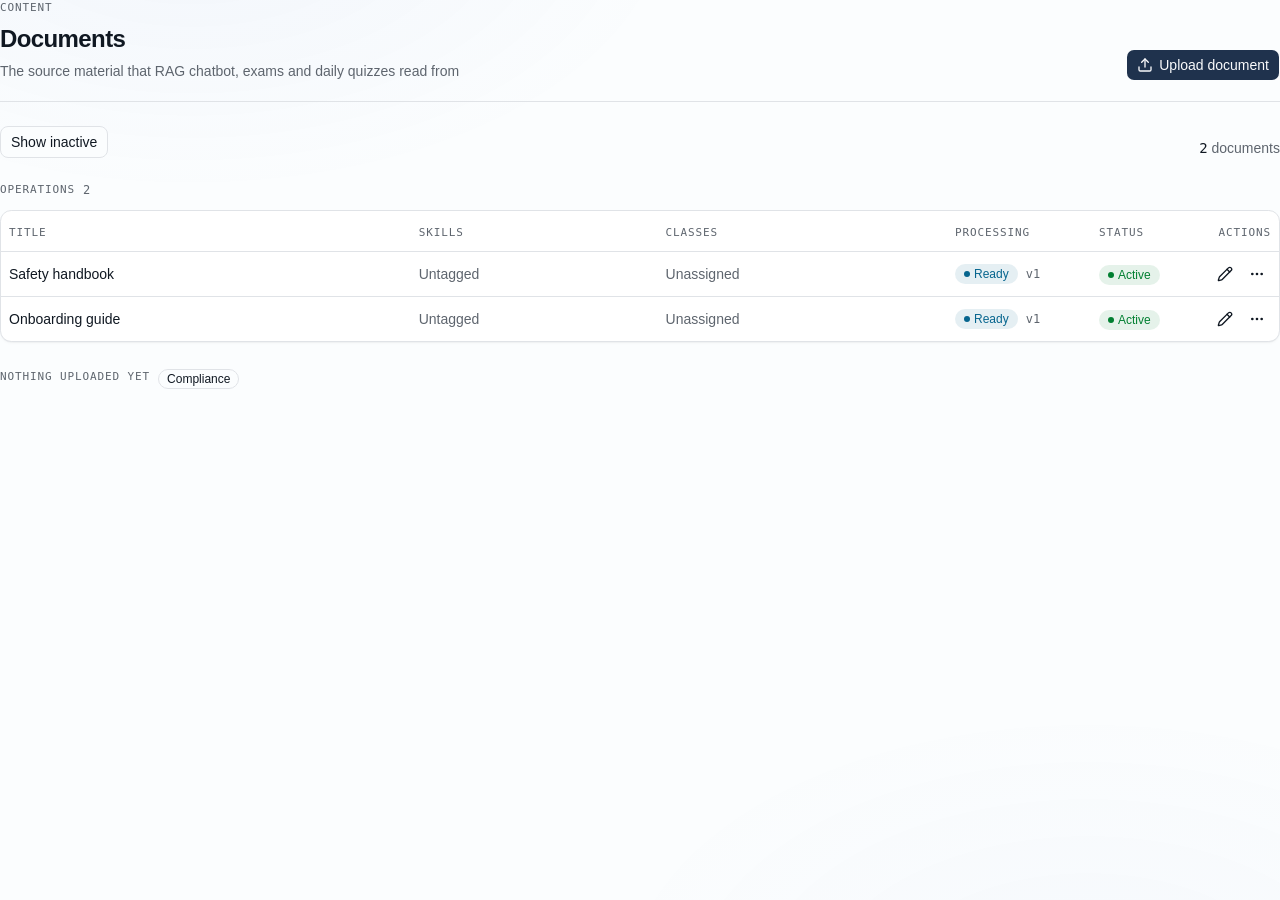
it: DocumentsPage edit and delete › keeps the document and shows the server's reason when a delete is blocked
Expected: the link "Safety handbook" is shown, [9, 266, 114, 282]
Click the button named "Actions for": (1257, 274) [1243, 260, 1271, 288]
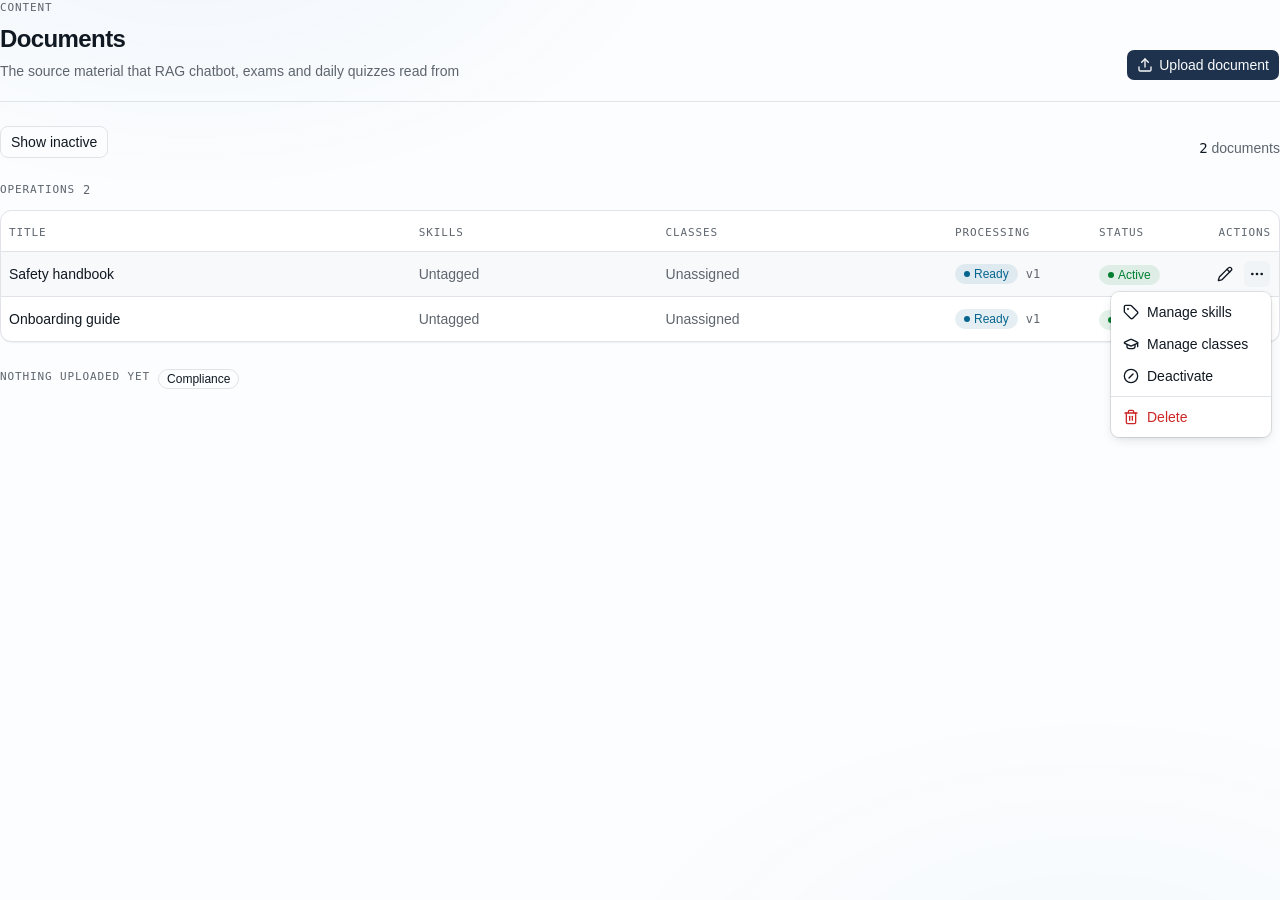
Click the menu item "Delete": (1155, 417) [1123, 409, 1188, 425]
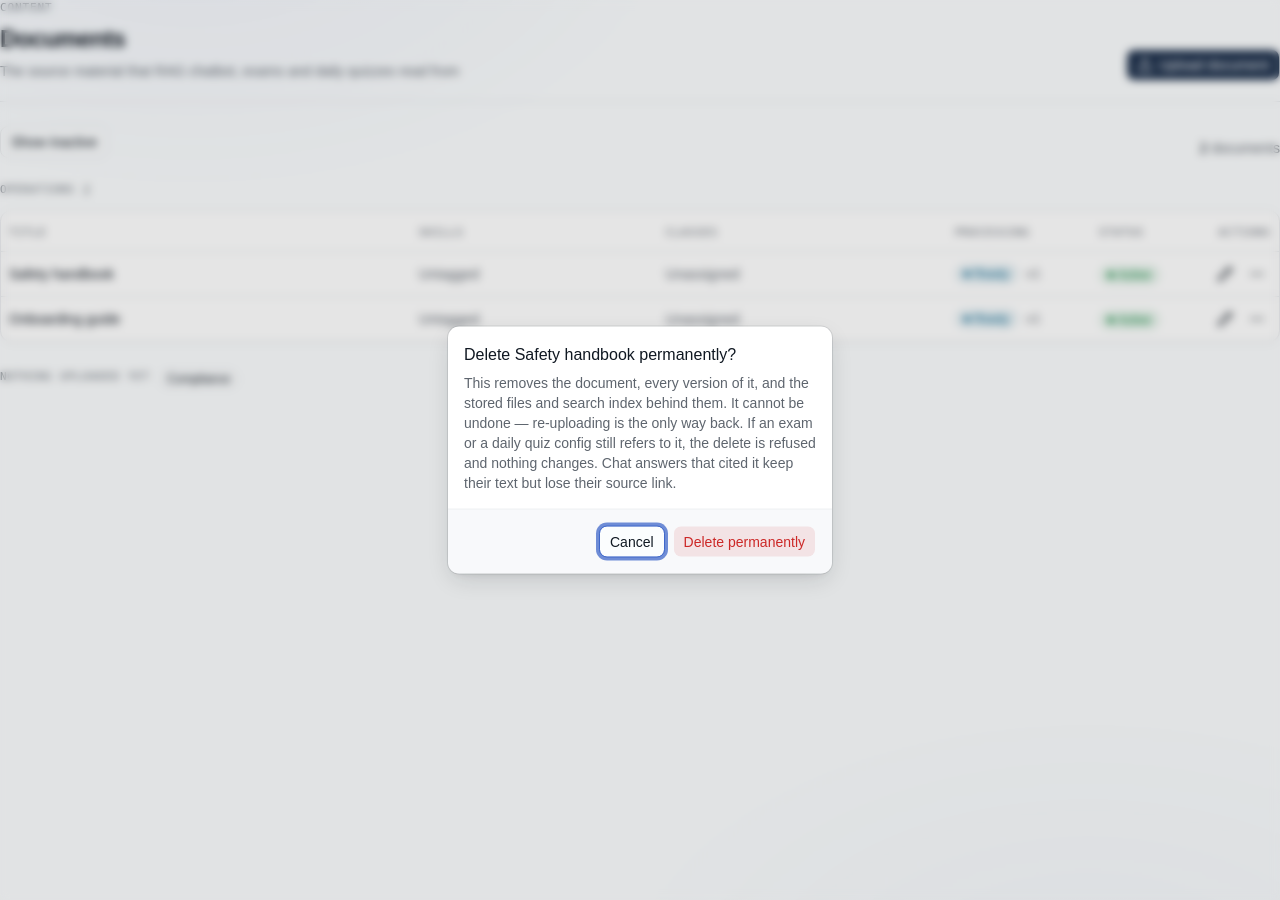
Click the button "Delete permanently": (744, 542) [673, 526, 816, 558]
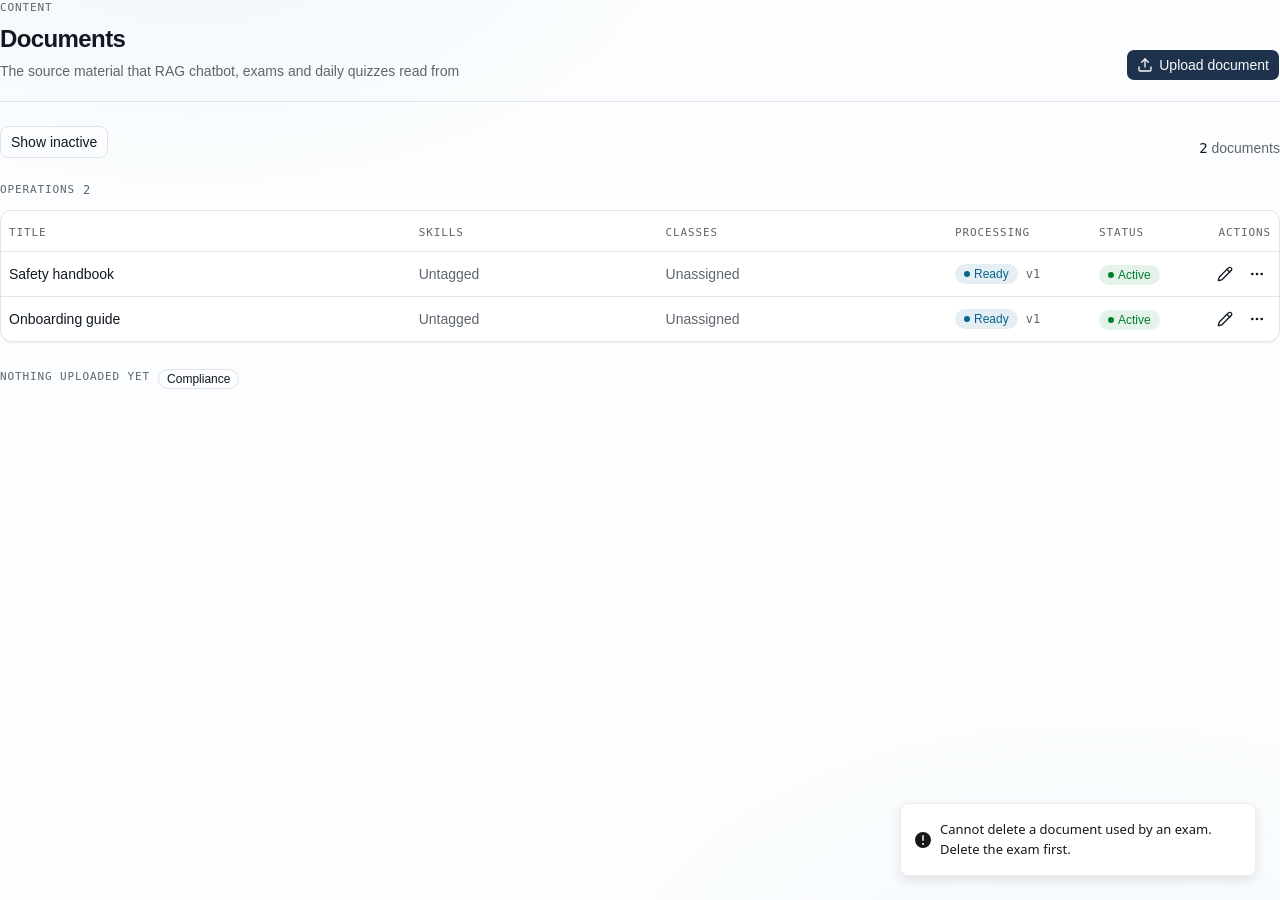
Expected: the link "Safety handbook" is shown, [9, 266, 114, 282]
Result: the text "Cannot delete a document used by an exam. Delete the exam first." is shown at [940, 820, 1239, 859]
